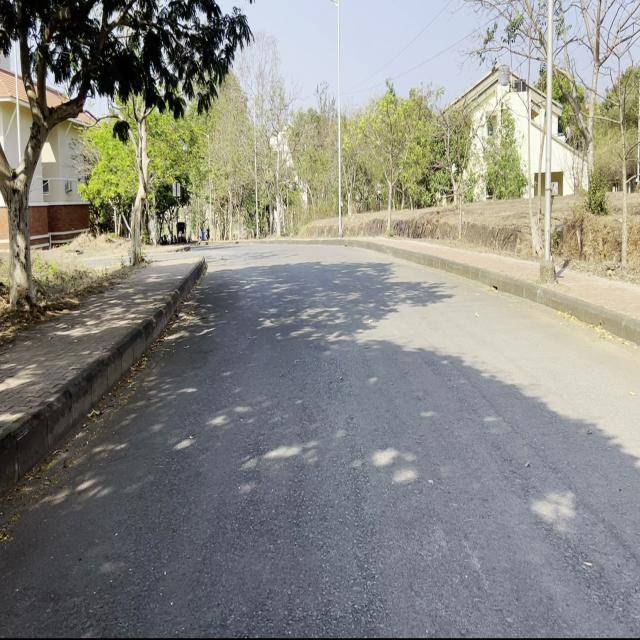Road: (8, 242, 637, 631)
